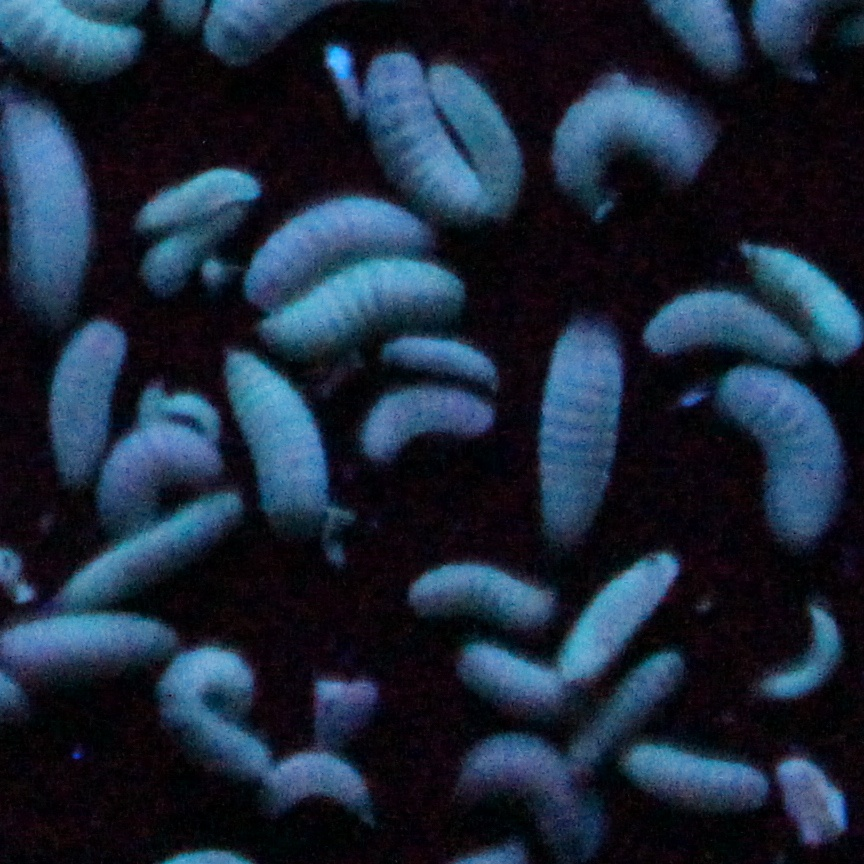larve: (212, 340, 333, 526), (713, 371, 835, 547), (244, 198, 426, 299), (557, 80, 700, 208), (48, 499, 231, 598), (362, 58, 474, 219), (533, 327, 616, 542), (262, 263, 461, 342), (454, 742, 585, 850), (549, 557, 674, 667), (741, 240, 861, 350), (430, 60, 516, 212), (161, 648, 262, 776), (105, 422, 216, 530), (638, 296, 803, 360), (364, 389, 494, 465), (54, 322, 120, 471), (620, 745, 769, 811), (402, 567, 554, 630), (138, 203, 243, 294), (589, 648, 672, 760), (757, 601, 841, 699), (461, 639, 571, 712), (141, 173, 257, 227), (259, 748, 366, 806), (387, 334, 502, 380)
